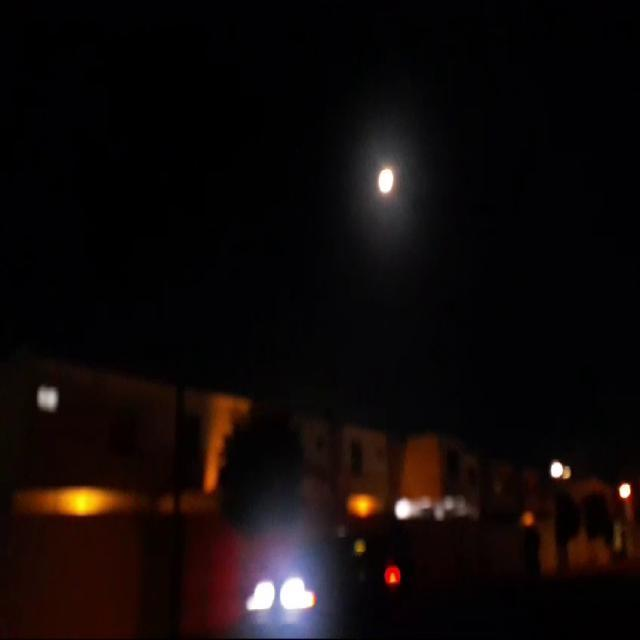moon: (360, 165, 380, 199)
